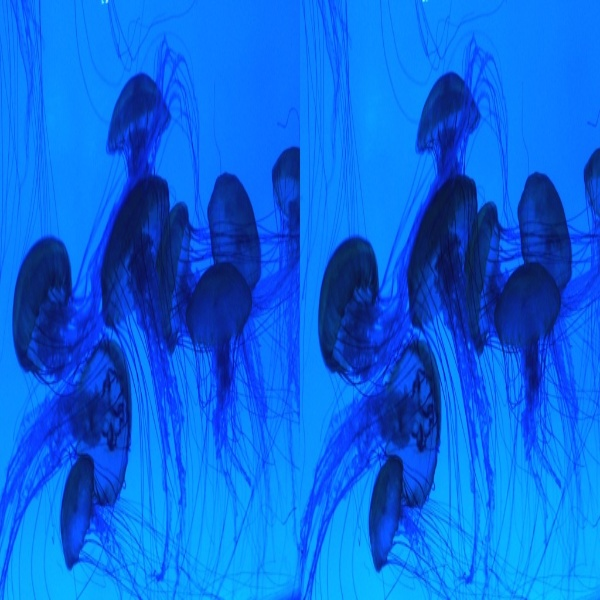Jellyfish: (296, 0, 599, 598), (299, 0, 599, 598), (0, 0, 299, 598), (0, 0, 295, 598), (323, 208, 400, 394), (105, 72, 173, 178)
